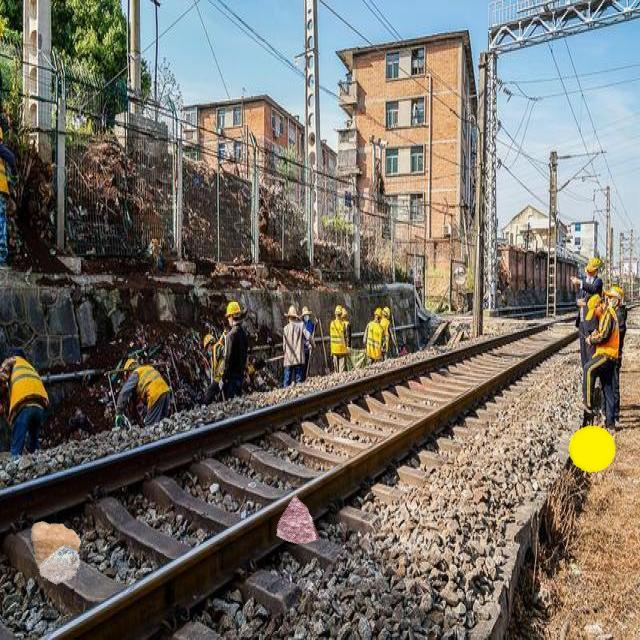1 stone_on_track: (31, 521, 81, 569), (276, 493, 320, 544), (38, 545, 81, 585)
2 negative_shape: (568, 425, 615, 472), (88, 172, 93, 178)
4 track: (0, 337, 554, 639)
